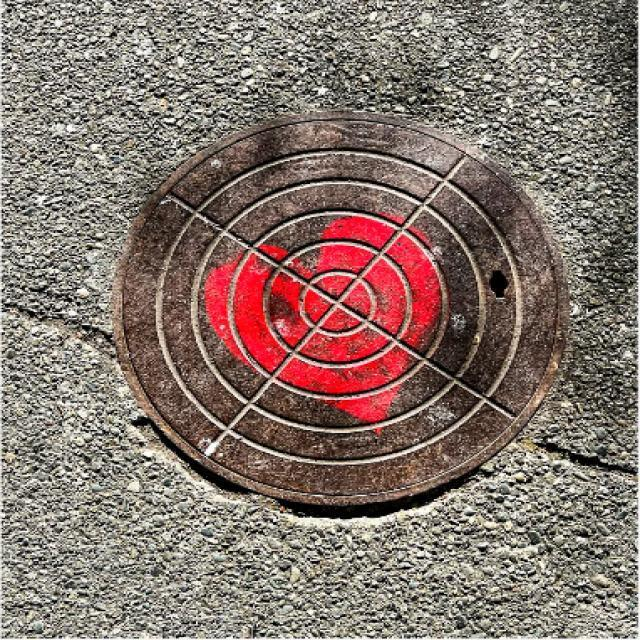manhole: (114, 112, 568, 504)
